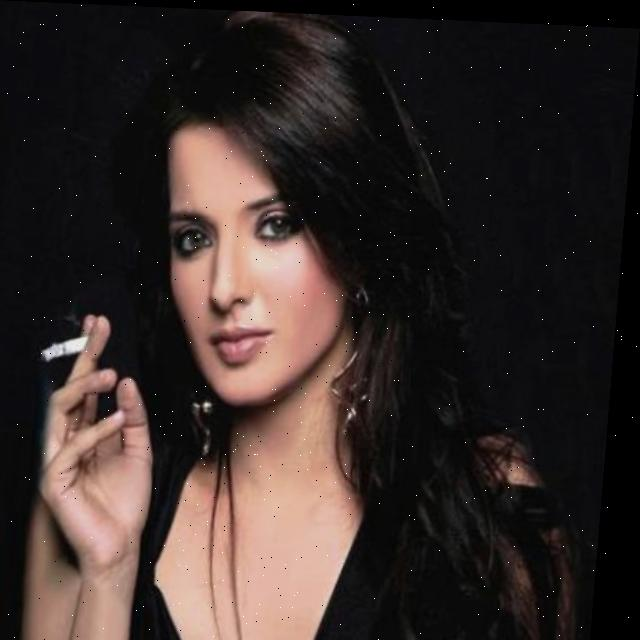cigarette: (42, 327, 104, 365)
